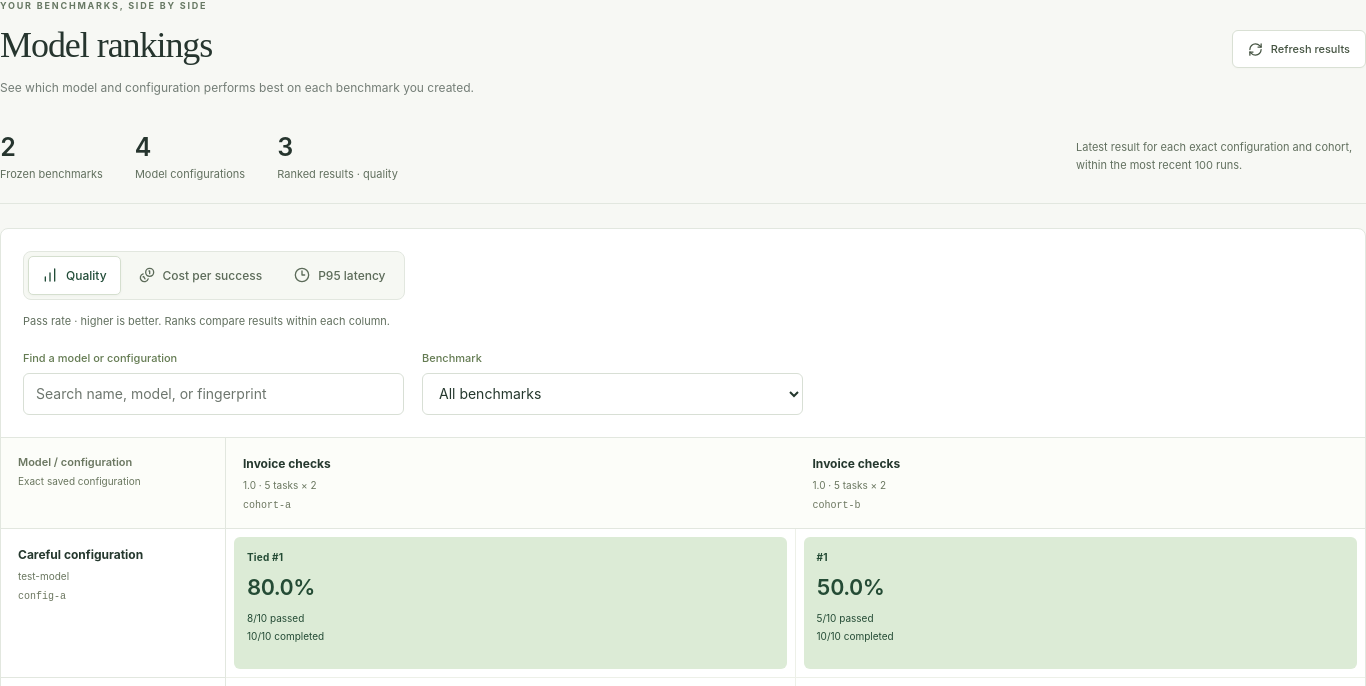
Test case: benchmark ranking matrix › filters models and exact cohorts while preserving ranks computed over all peers
This screenshot has width=1366, height=686.
In the search field labelled "Find a model or configuration": (214, 394) [23,372,404,415], type "Fast"
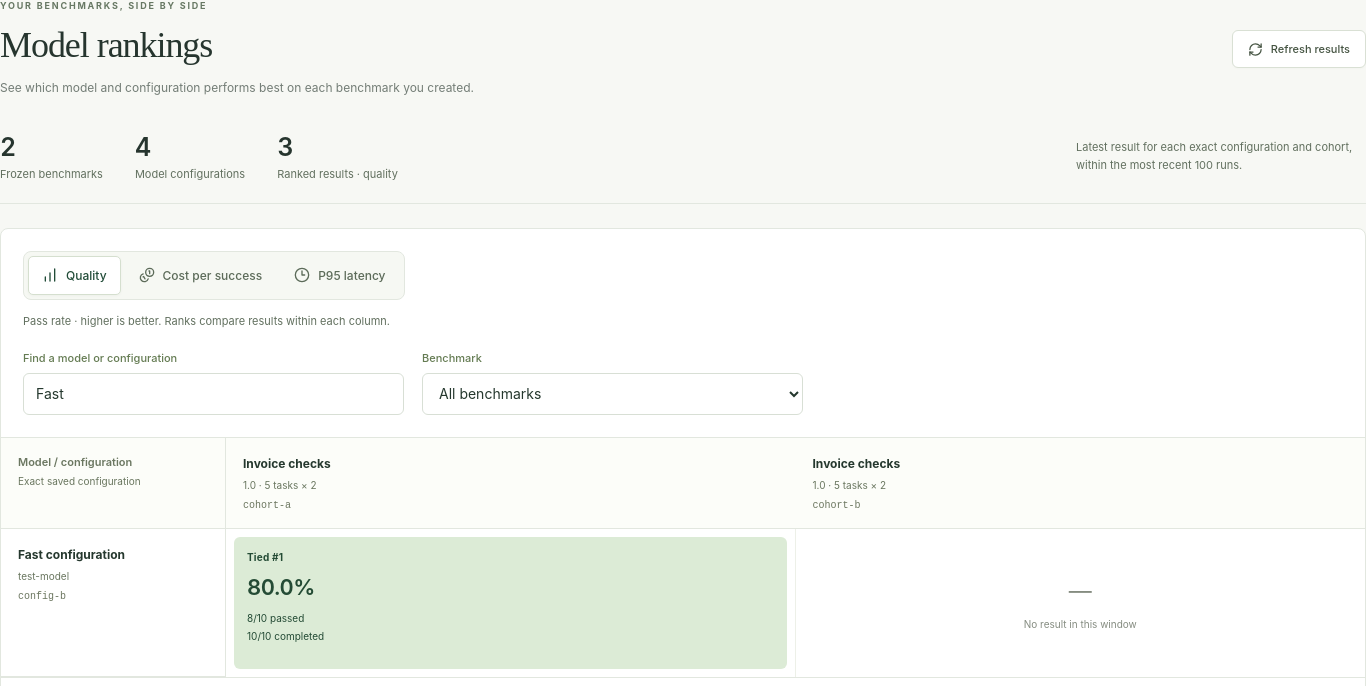
Check: the text "Tied #1" is shown, box [247,550,283,564]
Select "Invoice checks · 1.0 · cohort-b" in the dropdown labelled "Benchmark": (612, 394) [422,372,803,414]
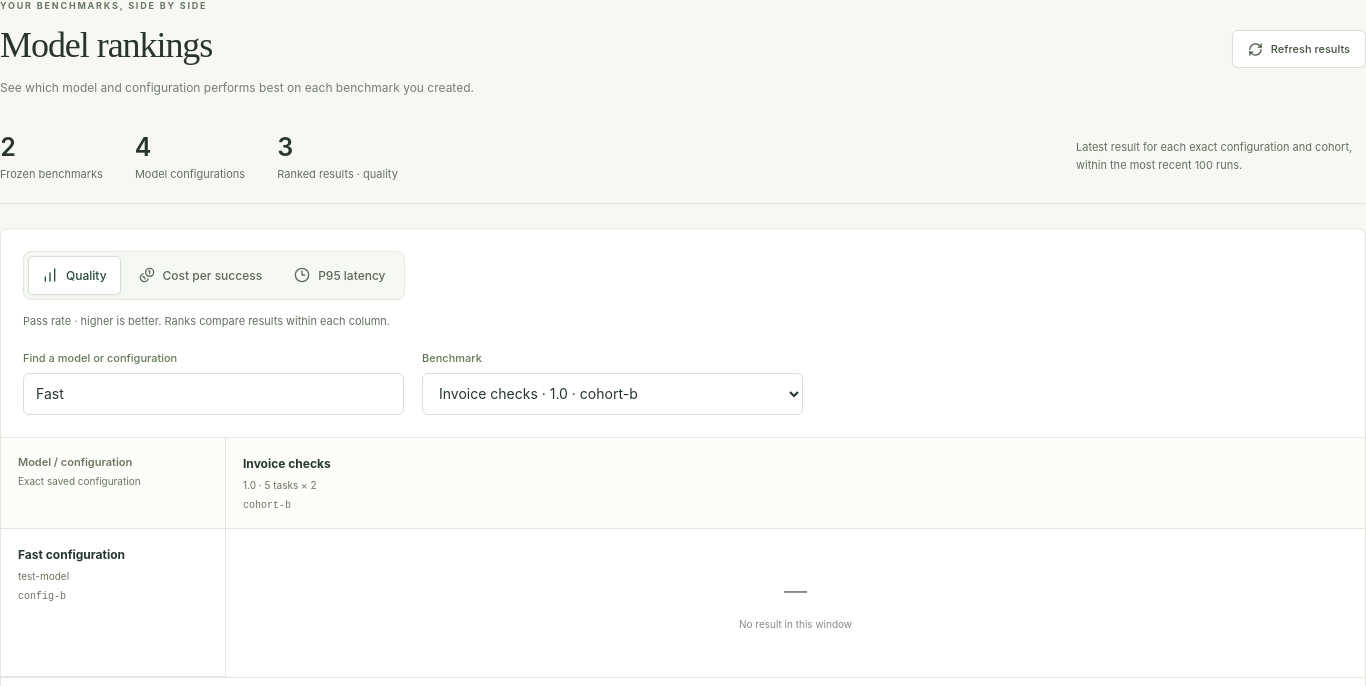
Check: the text "No result in this window" is shown, box [739,617,852,632]
Replace the text in the search field labelled "Find a model or configuration" with "Absent": (214, 394) [23,372,404,415]
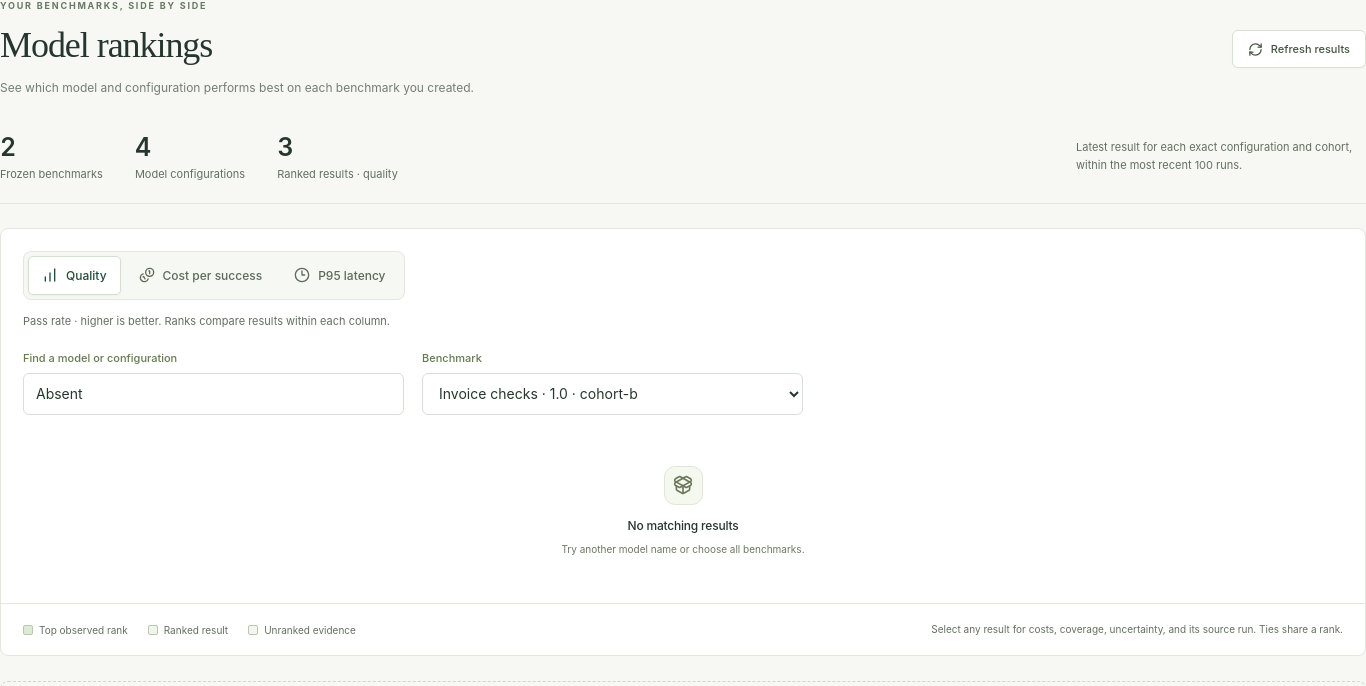
Check: the heading "No matching results" is shown, box [628,518,738,533]
Check: the table is gone
